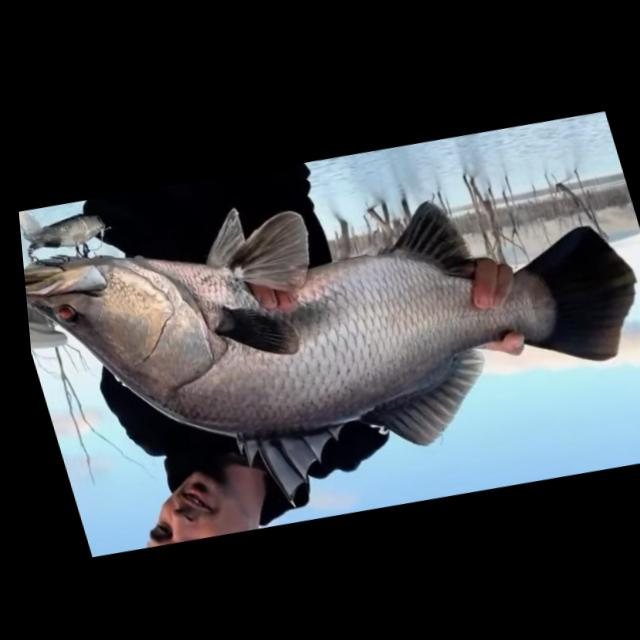Seabass: (11, 120, 640, 562)
